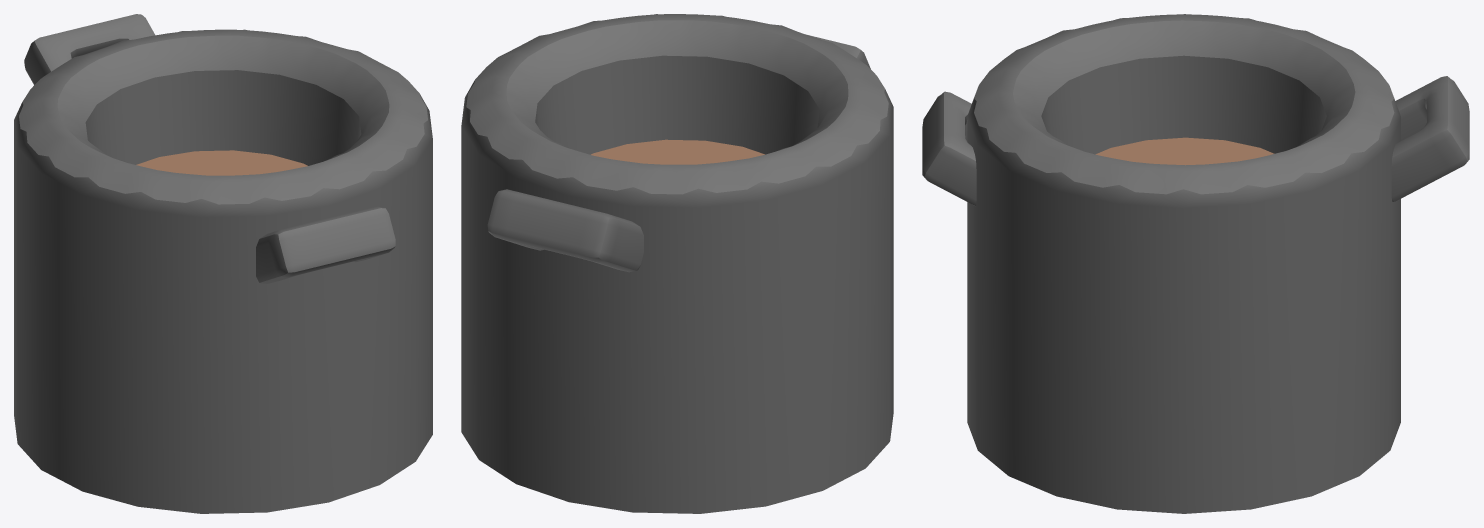
The model's file is 2of3Pot.fbx.
3 renders of one model, left to right at view 1: azimuth 30°, elevation 25°; view 2: azimuth 150°, elevation 25°; view 3: azimuth 270°, elevation 25°, orthographic. The views are drawn at different scales.
Visible parts, largest first — view 1: pasted__pCube1; view 2: pasted__pCube1; view 3: pasted__pCube1.
Boxes of the visible parts, bbox=[...] form: pasted__pCube1: bbox=[14, 14, 432, 513]; pasted__pCube1: bbox=[461, 14, 893, 513]; pasted__pCube1: bbox=[922, 14, 1469, 513].
Bounding box in the file's own units: 0.7 × 0.5866 × 0.8826.
